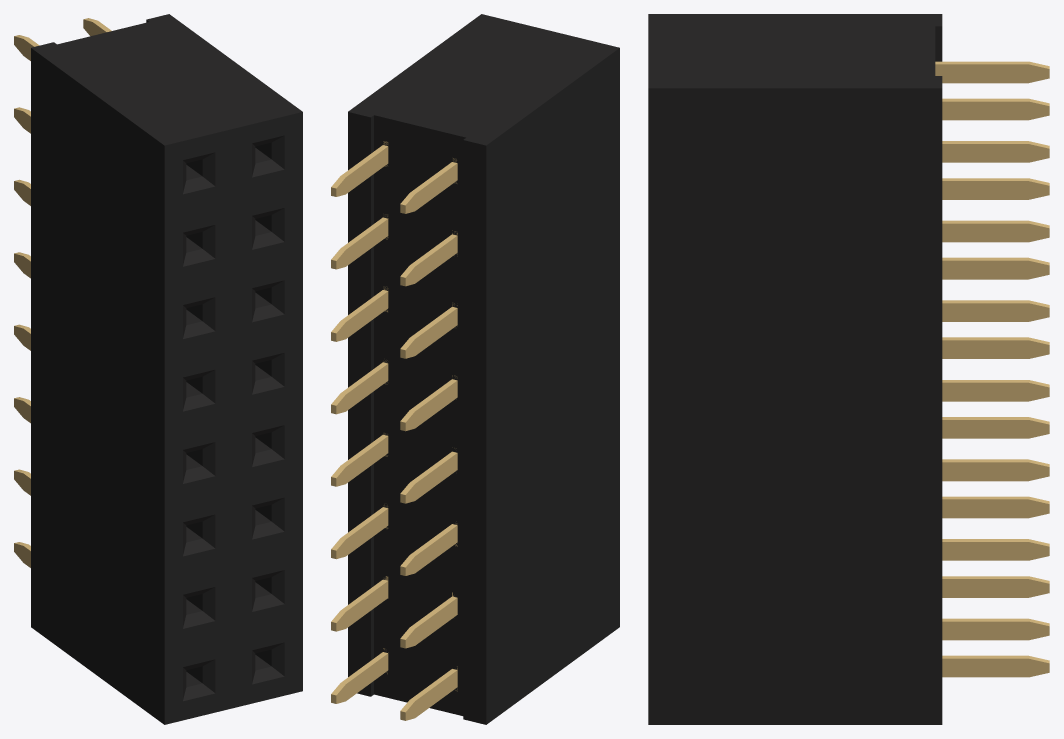
File: socket-2x08.glb
3 views of the same model, side by side, from view 1: azimuth 30°, elevation 25°; view 2: azimuth 150°, elevation 25°; view 3: azimuth 270°, elevation 25° (orthographic). The views are drawn at different scales.
Parts seen in each view (by area): view 1: IC-BODY-EPOXY-04, PIN-02; view 2: IC-BODY-EPOXY-04, PIN-02 (×10); view 3: IC-BODY-EPOXY-04, PIN-02 (×10).
Boxes of the visible parts, x1=… form: IC-BODY-EPOXY-04: x1=31, y1=14, x2=302, y2=724; PIN-02: x1=14, y1=18, x2=111, y2=567; IC-BODY-EPOXY-04: x1=348, y1=14, x2=619, y2=724; PIN-02 (×10): x1=331, y1=141, x2=457, y2=720; IC-BODY-EPOXY-04: x1=648, y1=14, x2=942, y2=724; PIN-02 (×10): x1=935, y1=61, x2=1049, y2=677.
Size of the model in its own units: 5.08 by 20.32 by 11.6.
